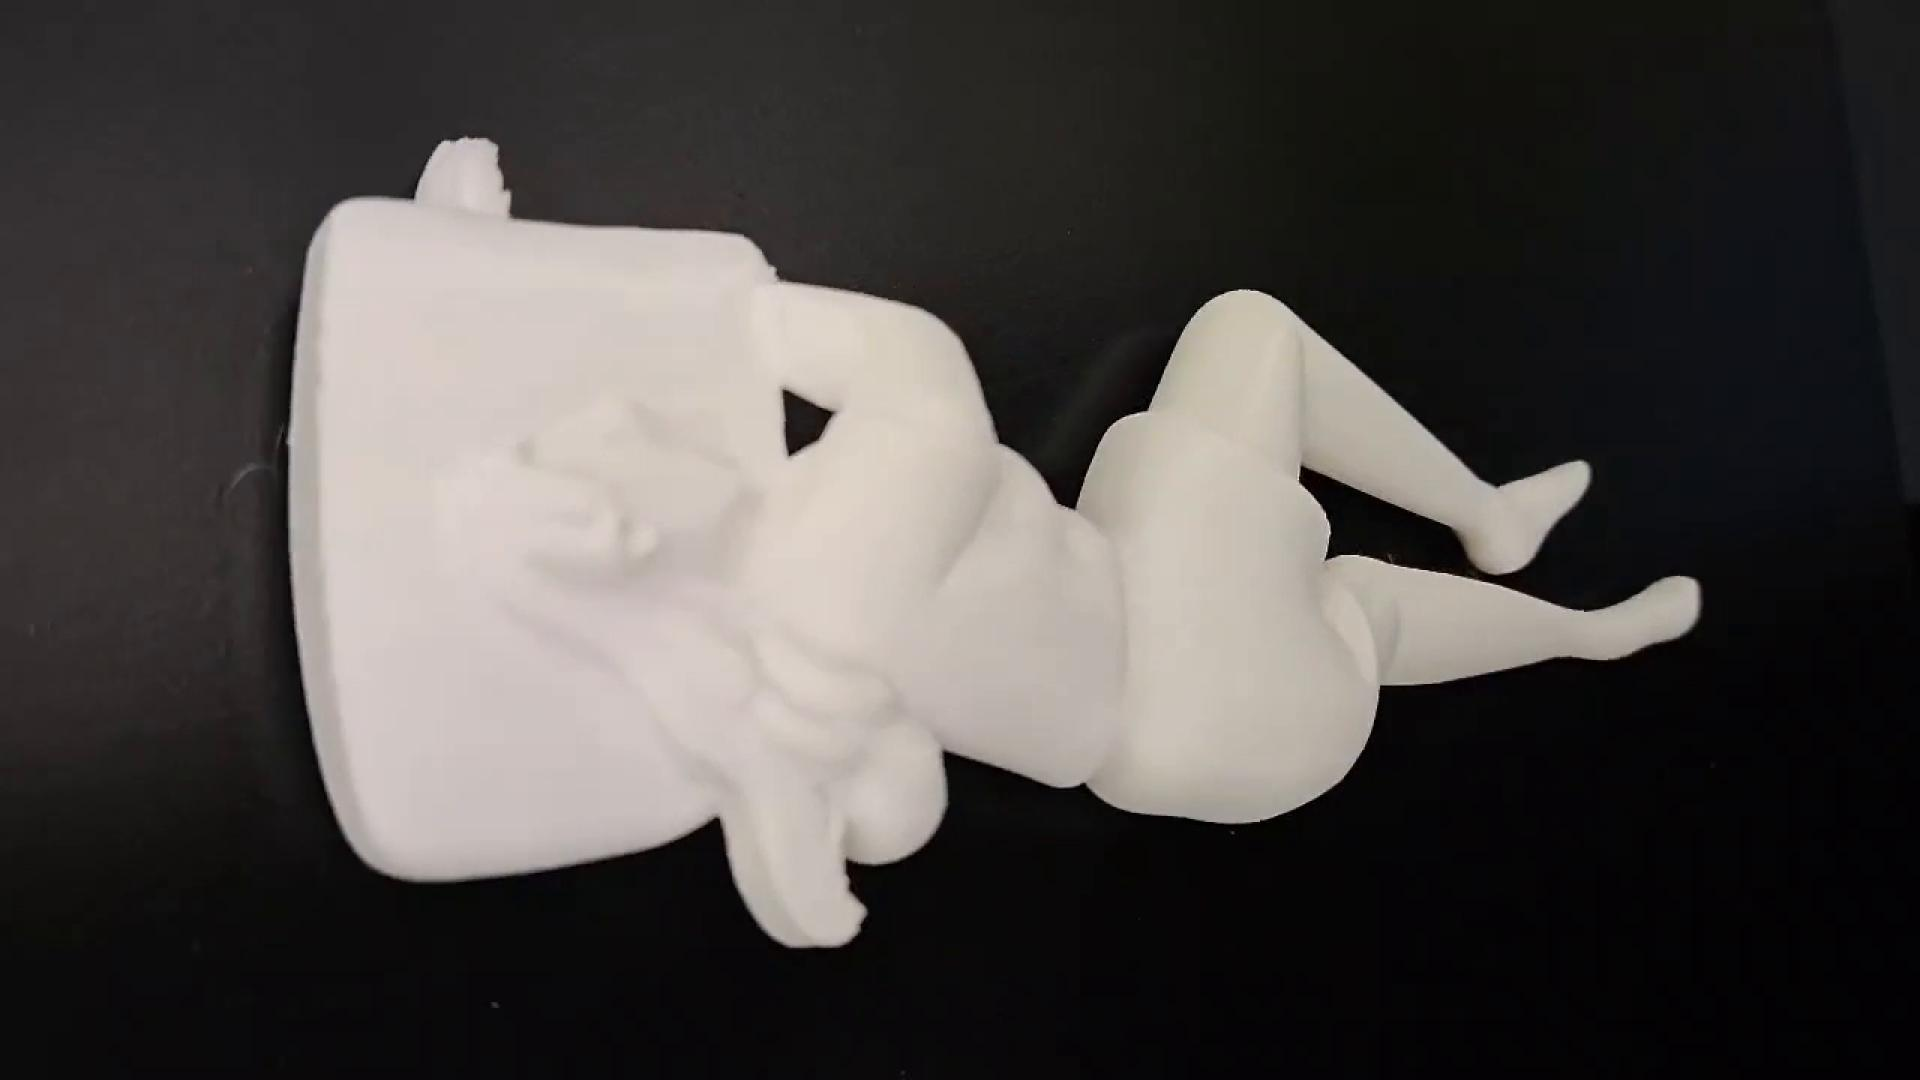Good-style: (274, 128, 1710, 964)
